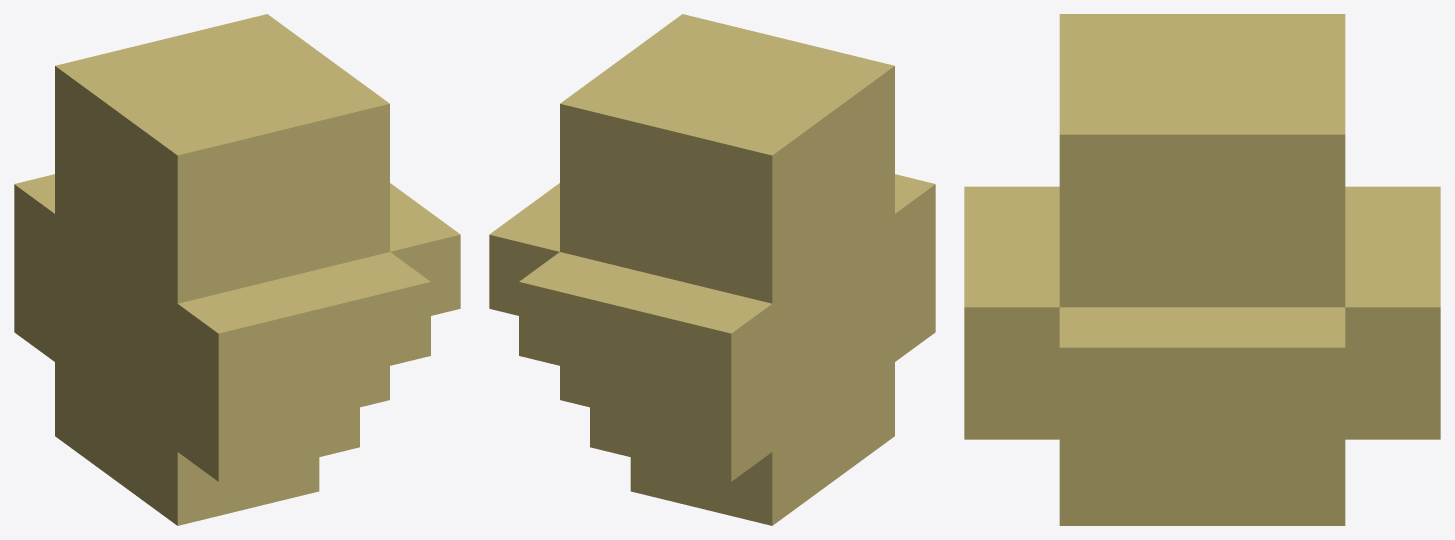
Rendered from righthand.obj.
The picture shows the model from 3 angles, left to right: view 1: azimuth 30°, elevation 25°; view 2: azimuth 150°, elevation 25°; view 3: azimuth 270°, elevation 25°; orthographic projection. The views are drawn at different scales.
Bounding box in the file's own units: 0.4 × 0.5 × 0.5.
1 material, 1 textured.
